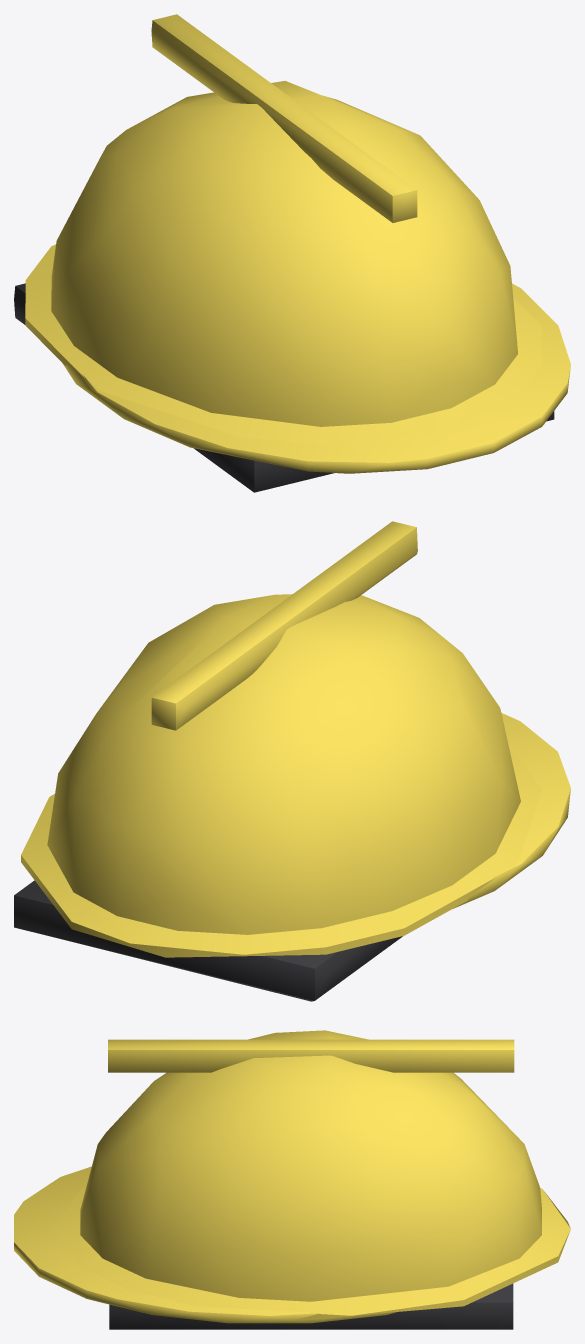
File: SER-EPI-001_lod1.glb
3 views of the same model, one above another, from view 1: azimuth 30°, elevation 25°; view 2: azimuth 150°, elevation 25°; view 3: azimuth 270°, elevation 25° (orthographic). The views are drawn at different scales.
Parts seen in each view (by area): view 1: SER-EPI-001_casco, SER-EPI-001_aba, SER-EPI-001_friso, SER-EPI-001_carneira; view 2: SER-EPI-001_casco, SER-EPI-001_friso, SER-EPI-001_carneira, SER-EPI-001_aba; view 3: SER-EPI-001_casco, SER-EPI-001_friso, SER-EPI-001_aba, SER-EPI-001_carneira.
Boxes of the visible parts, x1,y1,x2,y2 form: SER-EPI-001_casco: [25, 81, 541, 444]; SER-EPI-001_aba: [62, 283, 570, 473]; SER-EPI-001_friso: [151, 14, 417, 222]; SER-EPI-001_carneira: [14, 283, 554, 492]; SER-EPI-001_casco: [21, 594, 541, 957]; SER-EPI-001_friso: [151, 521, 417, 730]; SER-EPI-001_carneira: [14, 880, 402, 1001]; SER-EPI-001_aba: [453, 713, 570, 908]; SER-EPI-001_casco: [53, 1030, 570, 1321]; SER-EPI-001_friso: [108, 1039, 514, 1072]; SER-EPI-001_aba: [14, 1166, 396, 1323]; SER-EPI-001_carneira: [109, 1283, 513, 1329].
Size of the model in its own units: 0.2988 by 0.1816 by 0.402.
